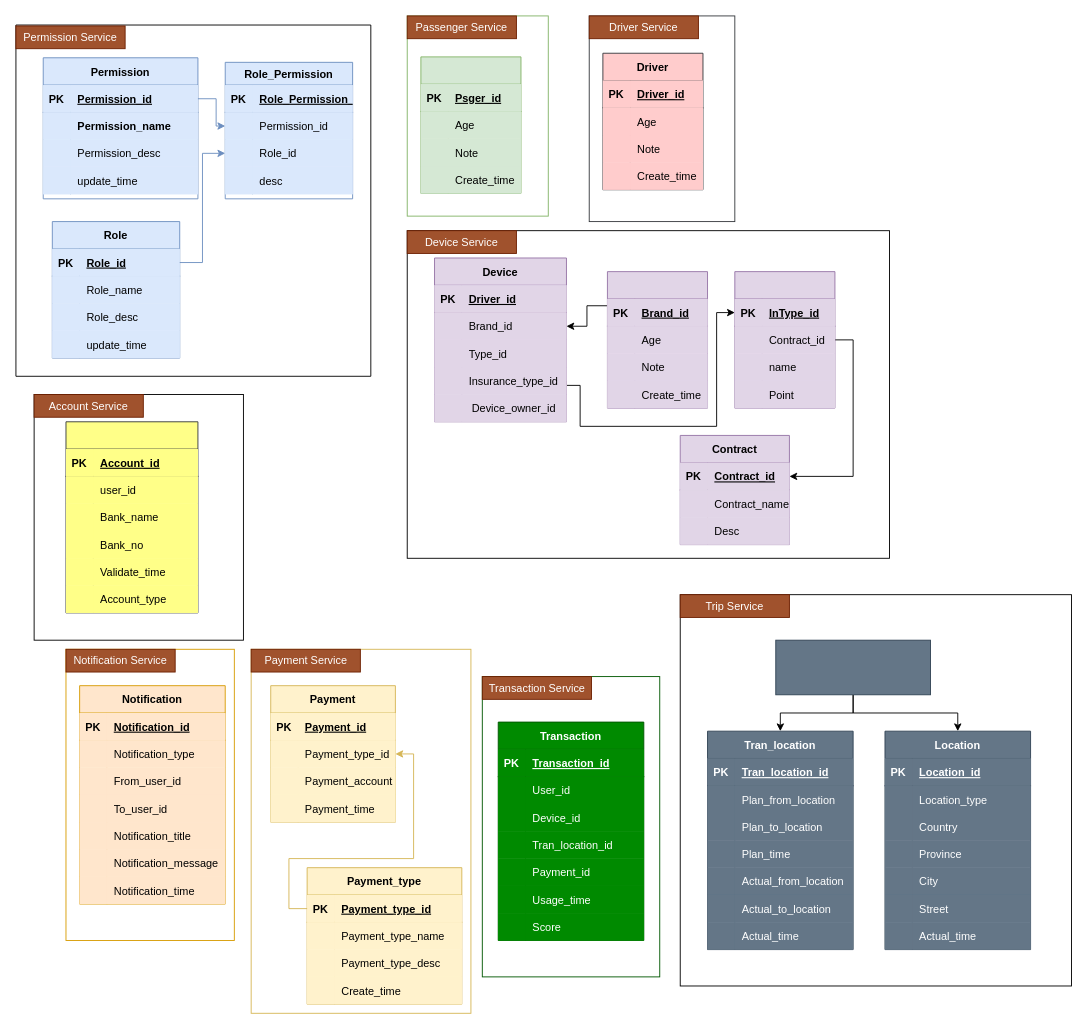
This 1087x1029 diagram has some shape labels left out. Here are the shapes that lost their labels. From the top down, the box of each, then its label:
(420, 56, 521, 193): Passenger
(607, 271, 708, 408): Device_brand
(734, 271, 835, 408): Insurance_type
(65, 421, 198, 613): User_account
(775, 639, 930, 695): Trip Management
